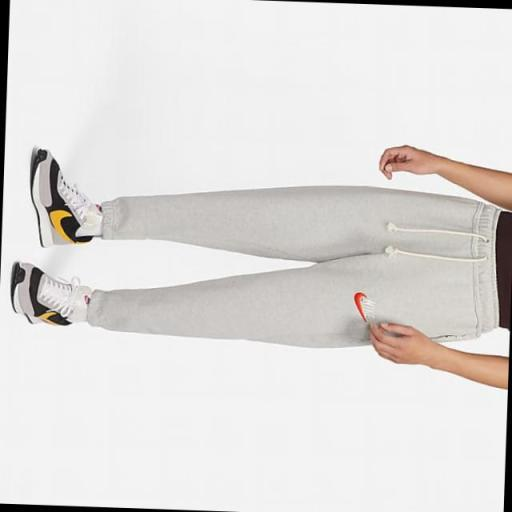Nike: (344, 282, 371, 328)
